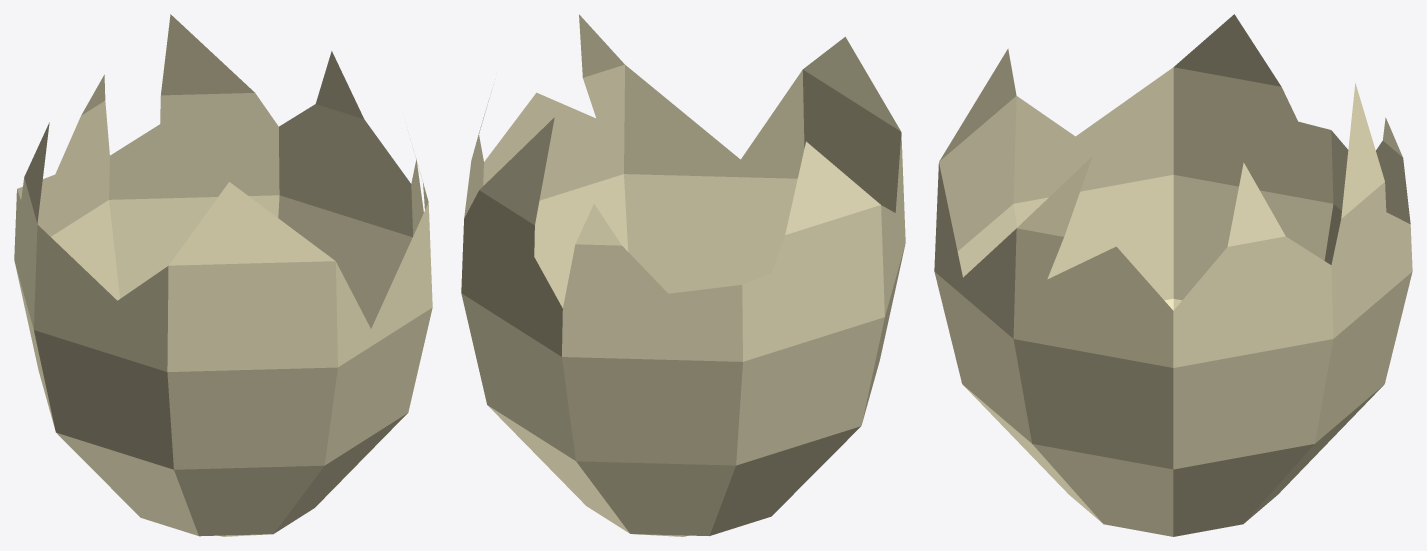
File: Eggshell.fbx
The picture shows the model from 3 angles, left to right: view 1: azimuth 30°, elevation 25°; view 2: azimuth 150°, elevation 25°; view 3: azimuth 270°, elevation 25°; orthographic projection. The views are drawn at different scales.
Parts seen in each view (by area): view 1: Eggshell; view 2: Eggshell; view 3: Eggshell.
Boxes of the visible parts, left/top/right/bottom form: Eggshell: left=14, top=14, right=432, bottom=536; Eggshell: left=461, top=14, right=905, bottom=536; Eggshell: left=934, top=14, right=1412, bottom=536.
Size of the model in its own units: 4.95 by 5.62 by 5.18.
